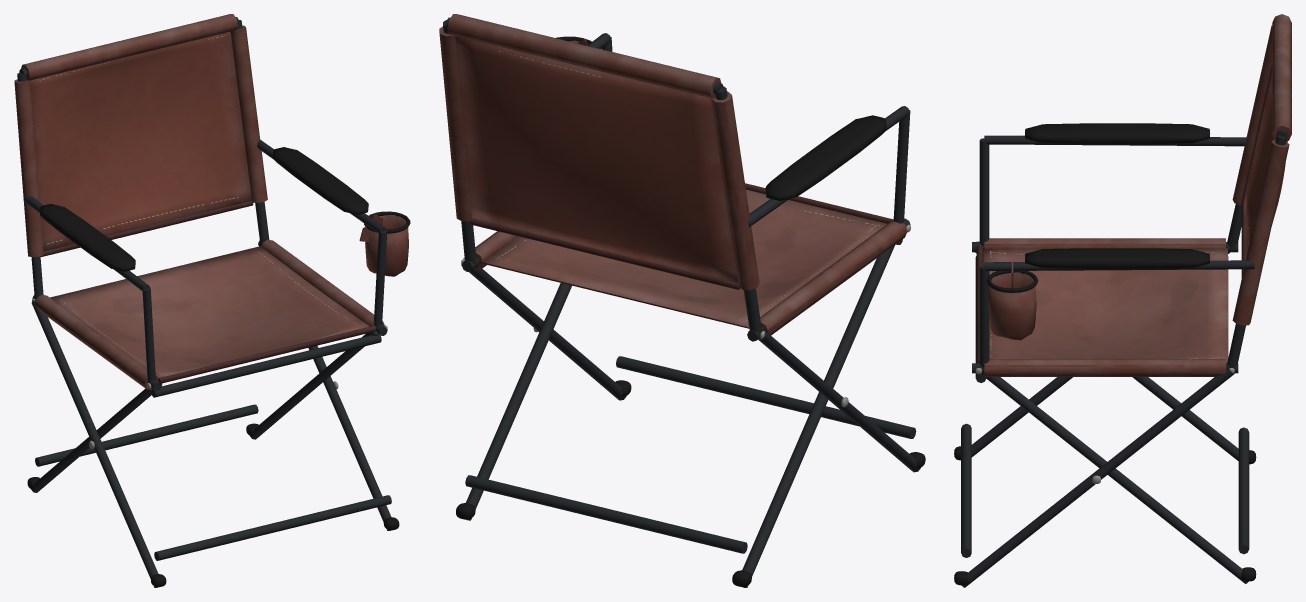
File: chair.glb
3 views of the same model, side by side, from view 1: azimuth 30°, elevation 25°; view 2: azimuth 150°, elevation 25°; view 3: azimuth 270°, elevation 25° (orthographic). The views are drawn at different scales.
Visible parts, largest first — view 1: Fabric, Frame, Fittings; view 2: Fabric, Frame, Fittings; view 3: Fabric, Frame, Fittings.
Boxes of the visible parts, x1,y1,x2,y2 form: Fabric: [14, 14, 408, 390]; Frame: [17, 17, 391, 587]; Fittings: [27, 147, 410, 587]; Fabric: [439, 14, 907, 335]; Frame: [443, 17, 920, 587]; Fittings: [456, 36, 925, 586]; Fabric: [976, 14, 1291, 376]; Frame: [961, 129, 1287, 587]; Fittings: [954, 123, 1256, 585].
Size of the model in its own units: 0.643 by 0.8946 by 0.6015.
5 materials, 1 textured.
